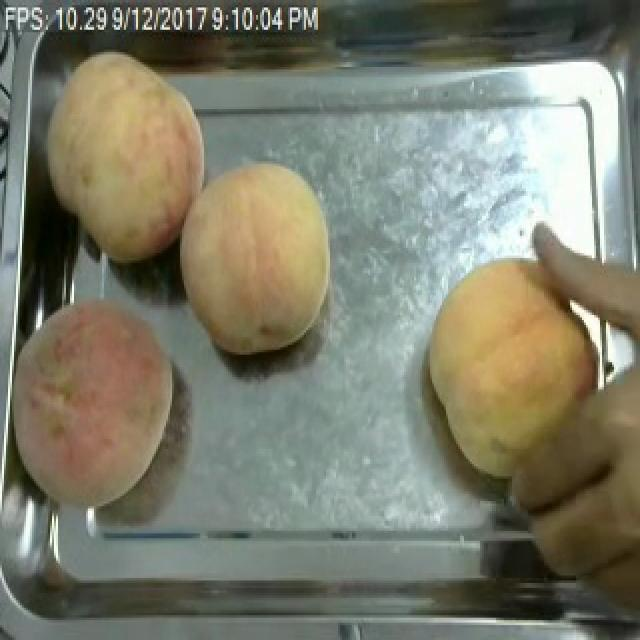Fruit: (420, 253, 630, 489), (8, 285, 186, 521), (34, 42, 218, 270), (168, 151, 340, 365)
